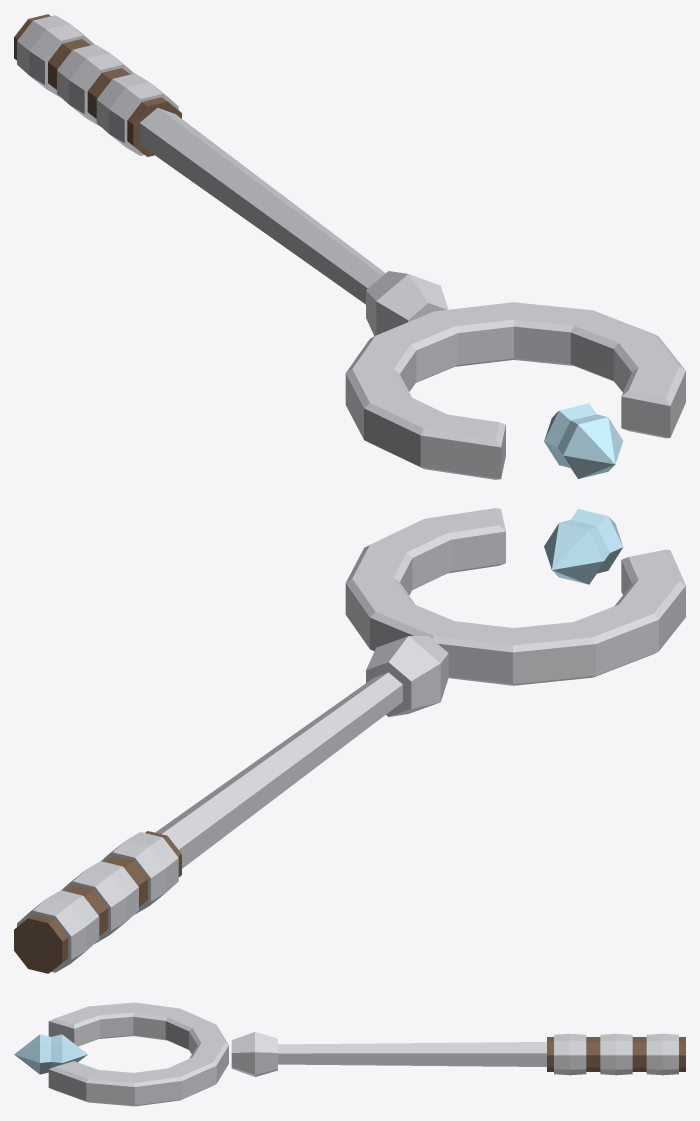
File: moonhook.glb
3 renders of one model, top to bottom at view 1: azimuth 30°, elevation 25°; view 2: azimuth 150°, elevation 25°; view 3: azimuth 270°, elevation 25°, orthographic. The views are drawn at different scales.
Visible parts, largest first — view 1: moonhook; view 2: moonhook; view 3: moonhook.
Boxes of the visible parts, box(x1,y1,x2,y2) form: moonhook: box(14, 14, 685, 479); moonhook: box(14, 508, 685, 973); moonhook: box(14, 1002, 685, 1106).
Bounding box in the file's own units: 0.2137 × 0.054 × 0.725.
